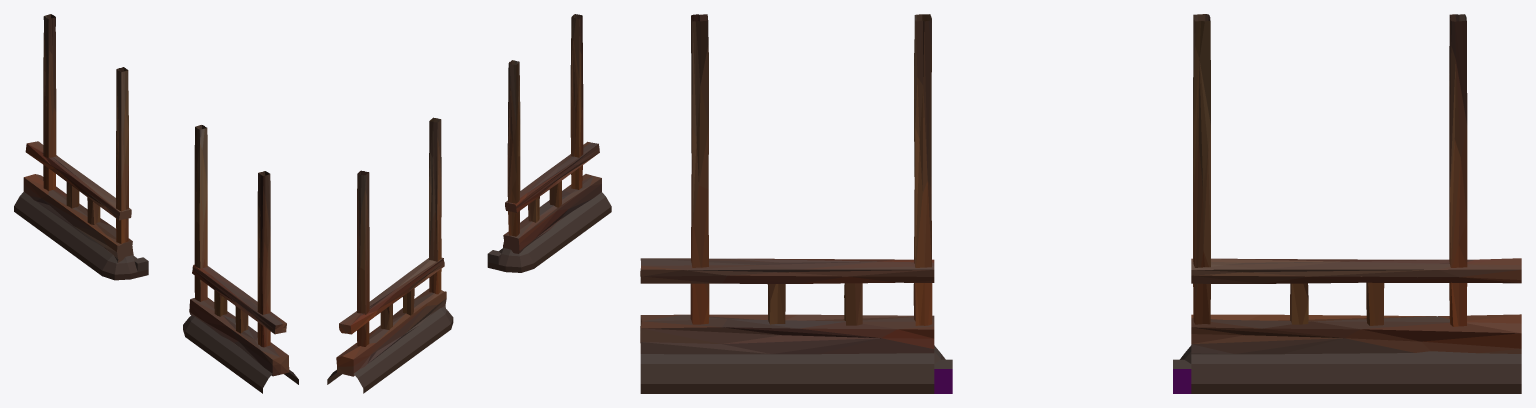
The model's file is Wall_HomeA-StairsPathC.fbx.
3 views of the same model, side by side, from view 1: azimuth 30°, elevation 25°; view 2: azimuth 150°, elevation 25°; view 3: azimuth 270°, elevation 25° (orthographic). The views are drawn at different scales.
Parts seen in each view (by area): view 1: Wall_HomeA-StairsPathC; view 2: Wall_HomeA-StairsPathC; view 3: Wall_HomeA-StairsPathC.
Part boxes in pixels (x1,y1,x2,y2): Wall_HomeA-StairsPathC: [14, 14, 298, 393]; Wall_HomeA-StairsPathC: [327, 14, 611, 393]; Wall_HomeA-StairsPathC: [640, 14, 1521, 393].
Bounding box in the file's own units: 50 × 271 × 600.
